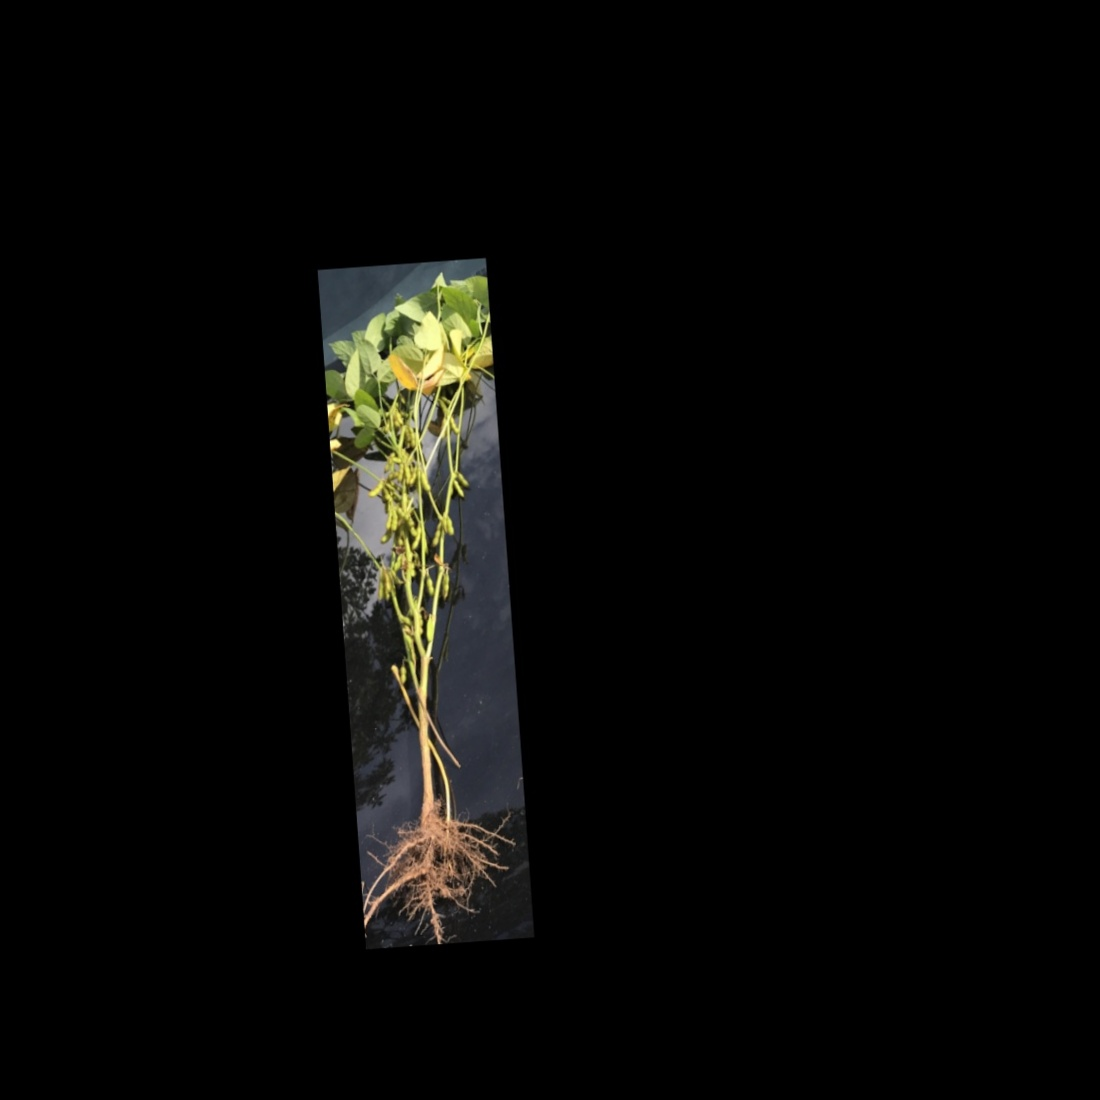pod: (427, 519, 445, 547), (364, 476, 386, 499), (407, 522, 422, 553), (387, 506, 402, 534), (439, 569, 451, 602), (451, 476, 466, 502), (446, 412, 461, 436), (406, 425, 418, 450), (398, 663, 408, 688)
soy: (328, 318, 529, 909)
